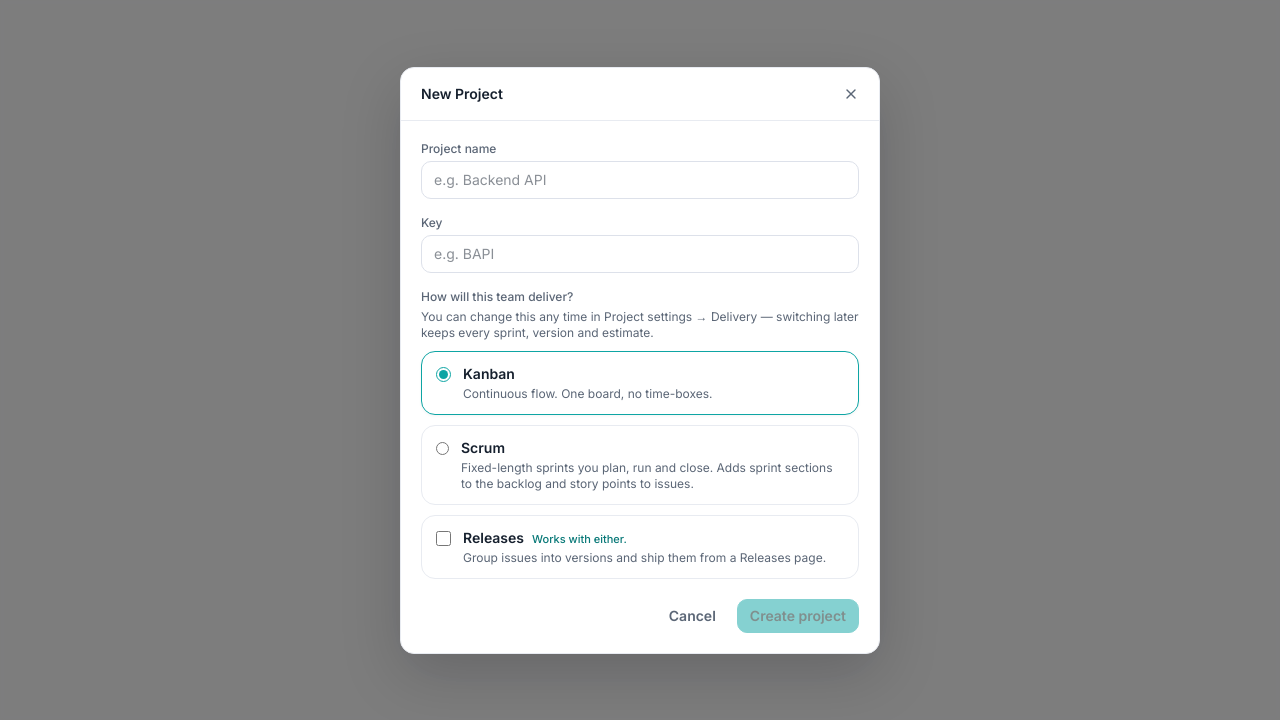
Test: CreateProjectModal — the delivery picker (HD-105) › never blocks creation on the question
The image size is (1280, 720).
Check: the radio button labelled "Kanban Continuous flow. One board, no time-boxes." is checked, box x1=436 y1=366 x2=451 y2=382
Type "Payments" into the field labelled "Project name" at [640, 180], box x1=421 y1=160 x2=859 y2=198
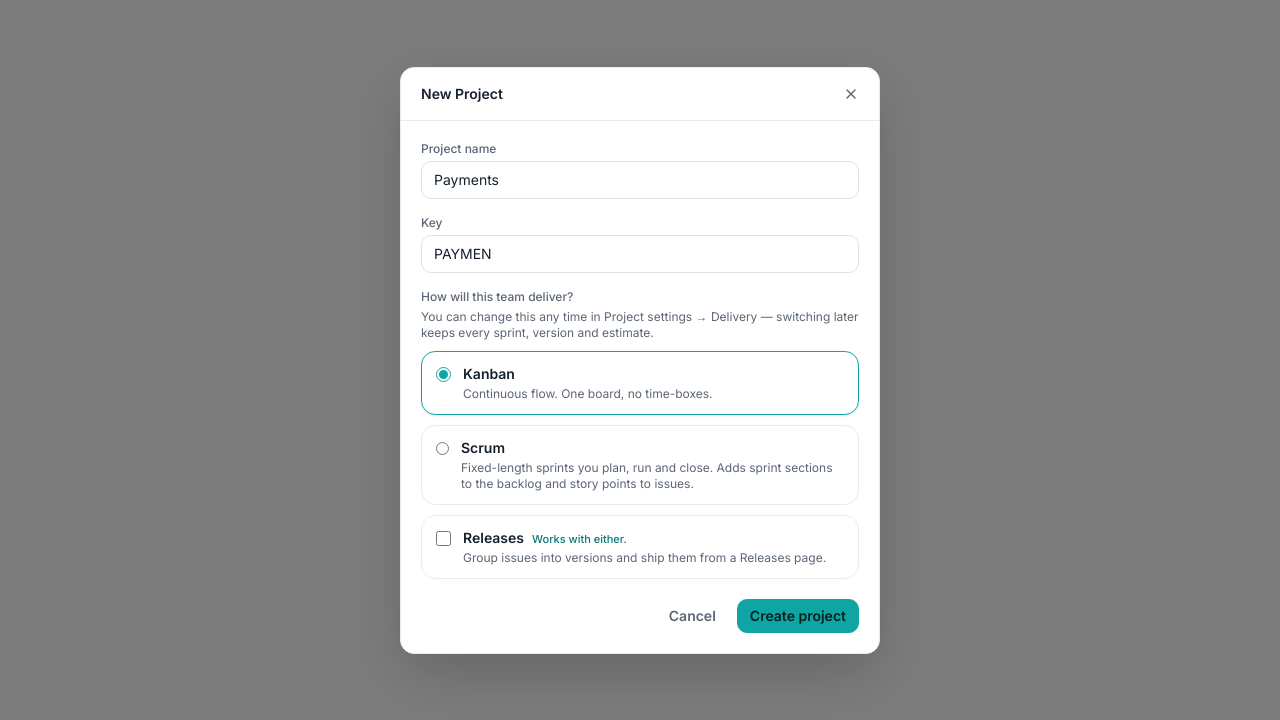
Check: the button "Create project" is enabled, box x1=737 y1=598 x2=859 y2=632
